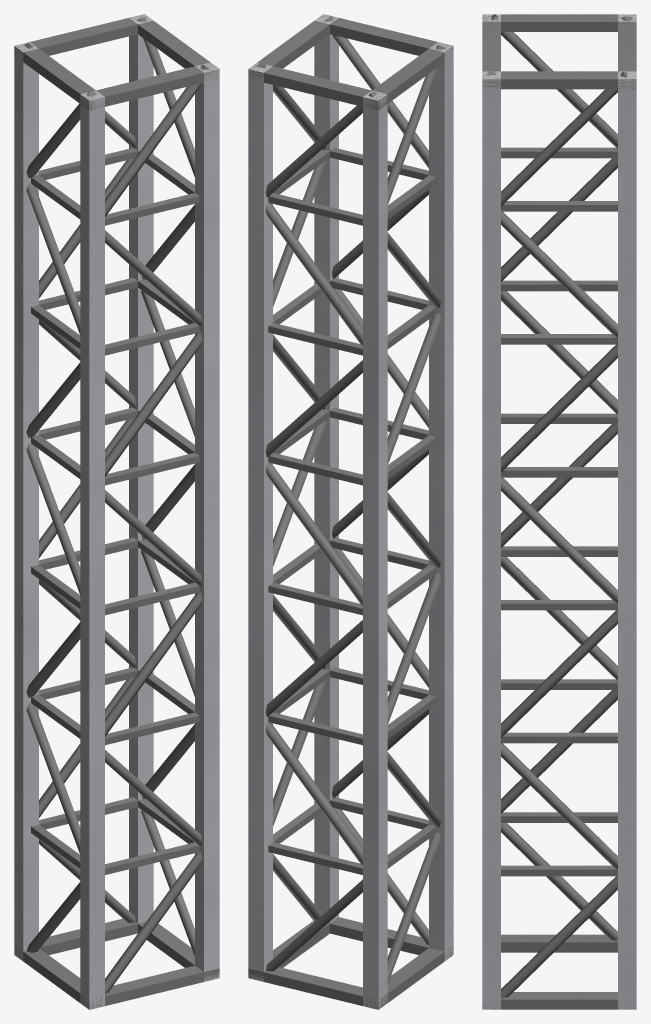
Rendered from struct00_box_girder_xs_2.glb.
3 renders of one model, left to right at view 1: azimuth 30°, elevation 25°; view 2: azimuth 150°, elevation 25°; view 3: azimuth 270°, elevation 25°, orthographic. The views are drawn at different scales.
Parts seen in each view (by area): view 1: longerons, lacing, end_frames; view 2: longerons, lacing, end_frames; view 3: lacing, longerons, end_frames.
Part boxes in pixels (x1,y1,x2,y2): longerons: (14, 14, 219, 1009); lacing: (24, 17, 209, 993); end_frames: (14, 14, 219, 1009); longerons: (248, 14, 453, 1009); lacing: (256, 16, 445, 984); end_frames: (248, 14, 453, 1009); lacing: (486, 14, 632, 997); longerons: (482, 14, 636, 1009); end_frames: (482, 14, 636, 1009).
Size of the model in its own units: 0.3 by 2.01 by 0.3.
Materials: 2 (2 with a texture image).
